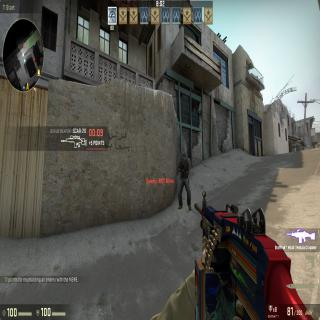T-Body: (178, 148, 192, 211)
T-Head: (181, 148, 187, 162)
